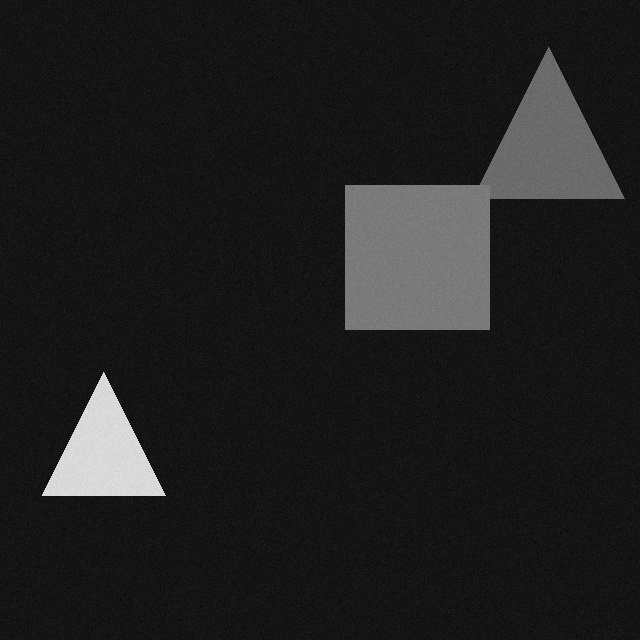square: (340, 181, 484, 325)
triangle: (468, 43, 619, 194), (37, 368, 160, 491)
